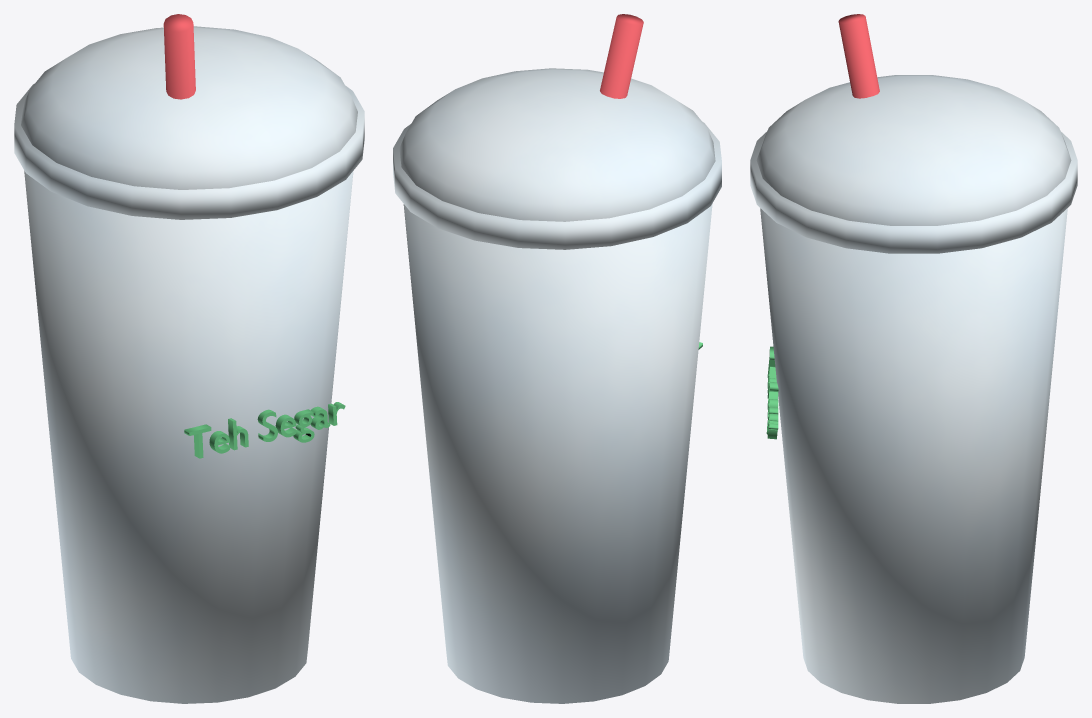
File: es_teh.fbx
The picture shows the model from 3 angles, left to right: view 1: azimuth 30°, elevation 25°; view 2: azimuth 150°, elevation 25°; view 3: azimuth 270°, elevation 25°; orthographic projection. The views are drawn at different scales.
Visible parts, largest first — view 1: es_teh; view 2: es_teh; view 3: es_teh.
Part boxes in pixels (<box>): es_teh: <box>14,14,364,703</box>; es_teh: <box>393,14,721,703</box>; es_teh: <box>750,14,1077,703</box>.
Bounding box in the file's own units: 14.06 × 29.75 × 14.2.
Materials: 1 (1 with a texture image).
